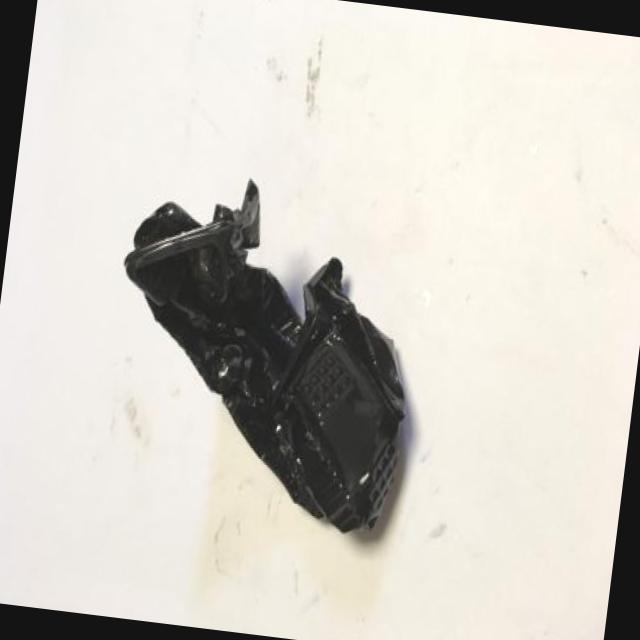Trash: (93, 163, 434, 537)
